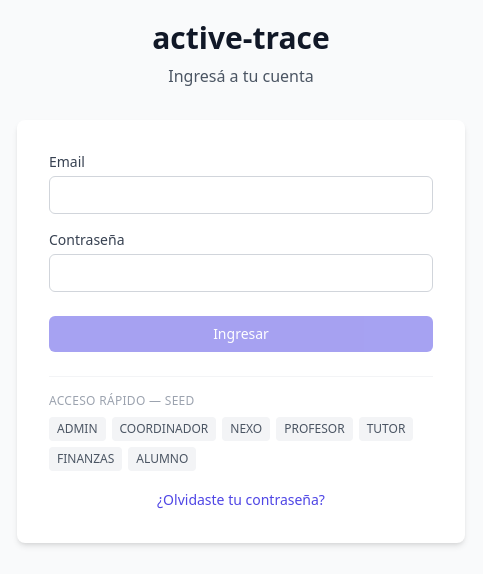
Test case: LoginPage › shows validation error for invalid email without making a request
Type "notanemail" into the field labelled "Email" at (241, 194), box [49,176,433,214]
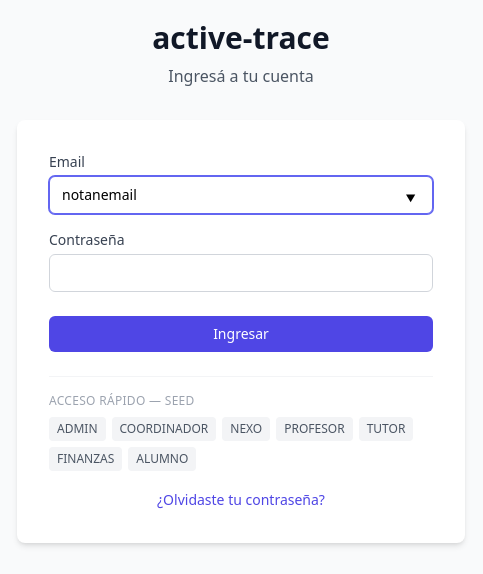
Type "password123" into the password field labelled "Contraseña" at (241, 272), box [49,254,433,292]
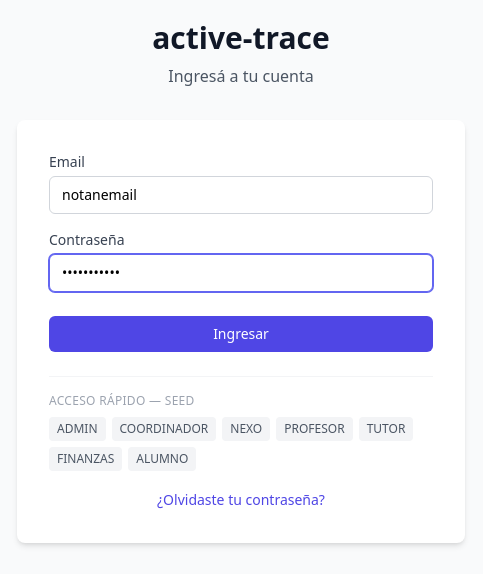
Click the button "Ingresar" at (241, 334), box [49,316,433,352]
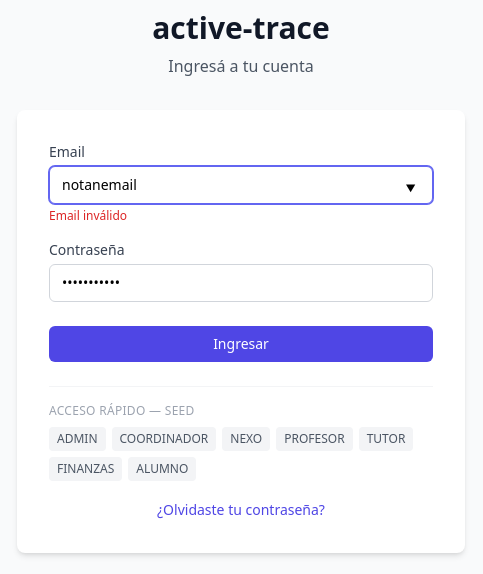
Expected: the message "Email inválido" is shown, [49,206,127,224]
